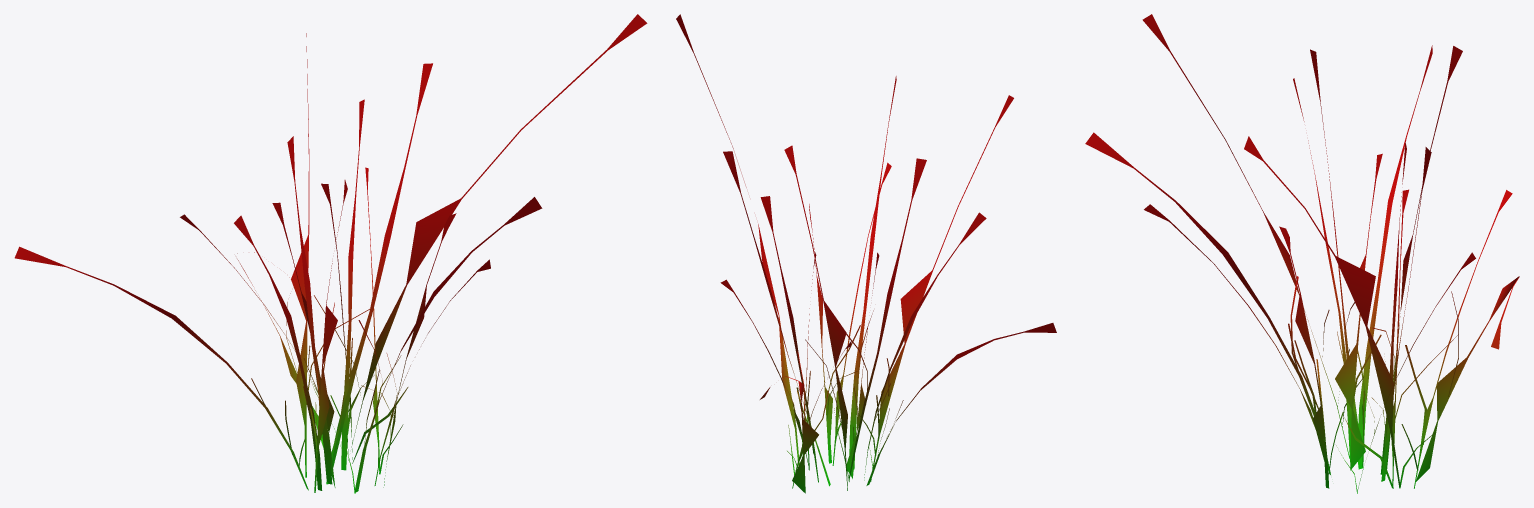
File: Tundra Grass_LOD6_Var32_wk2oaeyqx.fbx
3 renders of one model, left to right at view 1: azimuth 30°, elevation 25°; view 2: azimuth 150°, elevation 25°; view 3: azimuth 270°, elevation 25°, orthographic. The views are drawn at different scales.
Visible parts, largest first — view 1: _xh7h_Var32_LOD6; view 2: _xh7h_Var32_LOD6; view 3: _xh7h_Var32_LOD6.
Boxes of the visible parts, x1,y1,x2,y2 form: _xh7h_Var32_LOD6: (14, 14, 647, 493); _xh7h_Var32_LOD6: (676, 14, 1056, 493); _xh7h_Var32_LOD6: (1085, 14, 1519, 493).
Bounding box in the file's own units: 82.26 × 65.41 × 55.82.
